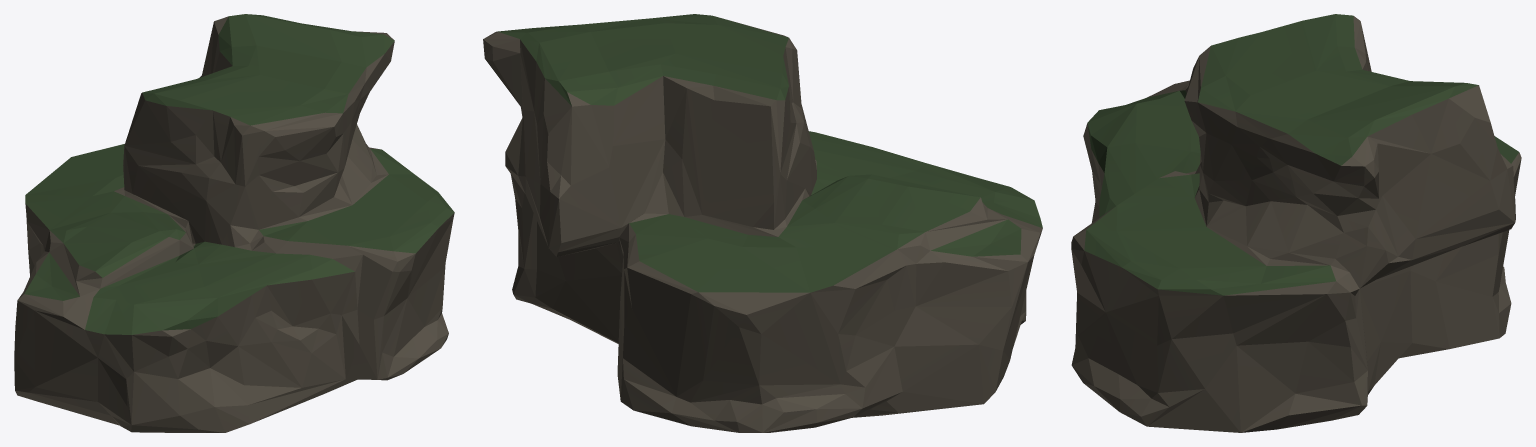
Rendered from SM_plated_cliff_08.fbx.
3 views of the same model, side by side, from view 1: azimuth 30°, elevation 25°; view 2: azimuth 150°, elevation 25°; view 3: azimuth 270°, elevation 25° (orthographic). The views are drawn at different scales.
Visible parts, largest first — view 1: plated_cliff_08; view 2: plated_cliff_08; view 3: plated_cliff_08.
Boxes of the visible parts, left/top/right/bottom form: plated_cliff_08: left=14, top=14, right=454, bottom=432; plated_cliff_08: left=483, top=14, right=1042, bottom=432; plated_cliff_08: left=1071, top=14, right=1521, bottom=432.
Size of the model in its own units: 2719 by 1631 by 2109.
